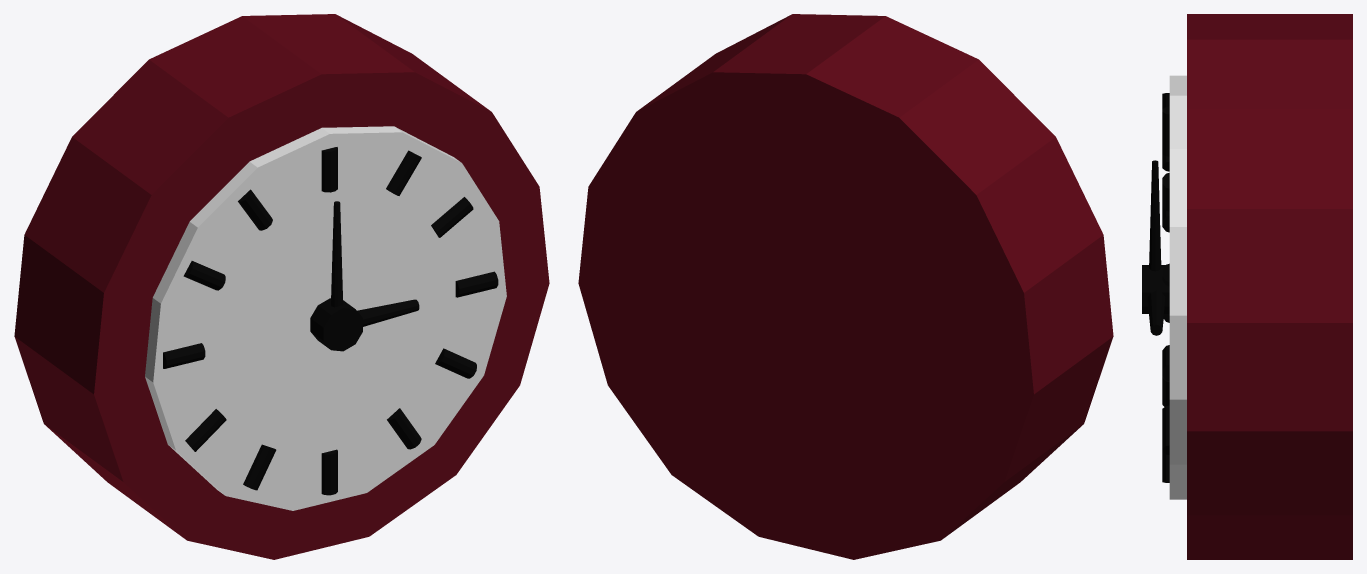
The model's file is clock.fbx.
The picture shows the model from 3 angles, left to right: view 1: azimuth 30°, elevation 25°; view 2: azimuth 150°, elevation 25°; view 3: azimuth 270°, elevation 25°; orthographic projection. The views are drawn at different scales.
Visible parts, largest first — view 1: Cylinder, Cylinder.001, Cylinder.014, Cylinder.015, Cylinder.004, Cylinder.002, Cylinder.003, Cylinder.013, Cylinder.005, Cylinder.008, Cylinder.009, Cylinder.012 (+4 smaller); view 2: Cylinder; view 3: Cylinder, Cylinder.014, Cylinder.001, Cylinder.015, Cylinder.002, Cylinder.011, Cylinder.009.
Part boxes in pixels (<box>): Cylinder: <box>14,14,549,559</box>; Cylinder.001: <box>310,298,362,351</box>; Cylinder.014: <box>331,201,343,307</box>; Cylinder.015: <box>357,299,419,326</box>; Cylinder.004: <box>455,271,498,297</box>; Cylinder.002: <box>321,147,337,192</box>; Cylinder.003: <box>321,449,337,495</box>; Cylinder.013: <box>243,444,276,490</box>; Cylinder.005: <box>163,343,205,368</box>; Cylinder.008: <box>431,197,473,237</box>; Cylinder.009: <box>386,150,421,195</box>; Cylinder.012: <box>185,409,226,451</box>; Cylinder: <box>578,14,1113,559</box>; Cylinder: <box>1169,14,1352,559</box>; Cylinder.014: <box>1149,160,1161,271</box>; Cylinder.001: <box>1142,265,1169,313</box>; Cylinder.015: <box>1147,290,1165,335</box>; Cylinder.002: <box>1162,106,1169,156</box>; Cylinder.011: <box>1162,405,1169,454</box>; Cylinder.009: <box>1162,172,1169,211</box>.
Bounding box in the file's own units: 199 × 198 × 76.5.
